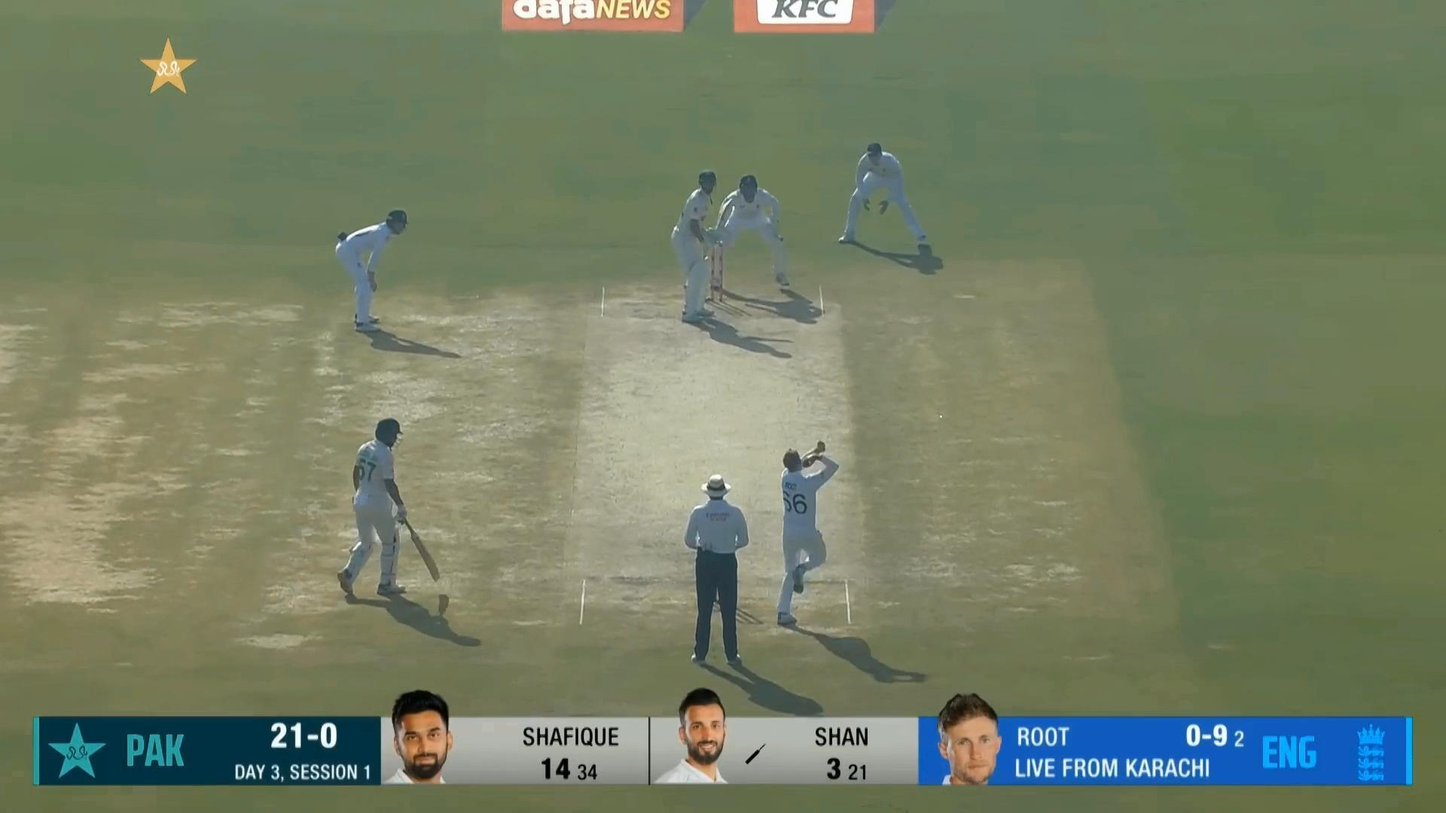BM 1: (671, 169, 733, 323)
BO: (774, 439, 841, 625)
